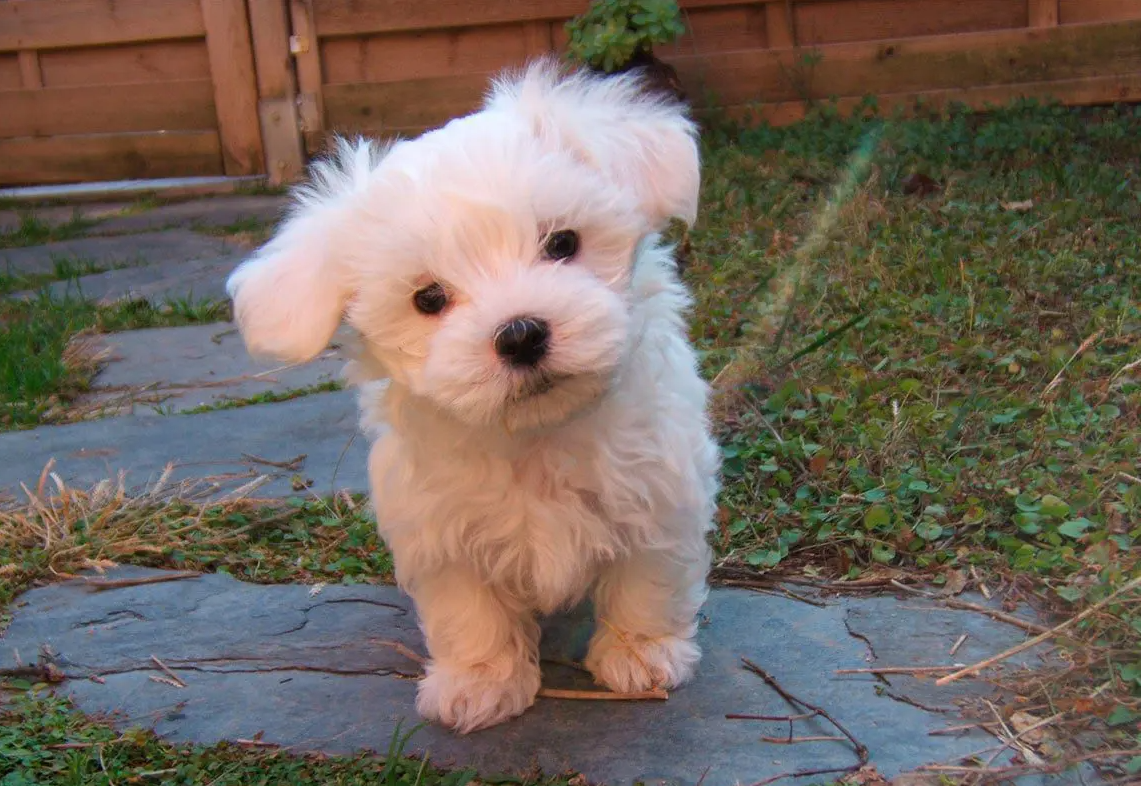perro: (201, 32, 756, 756)
